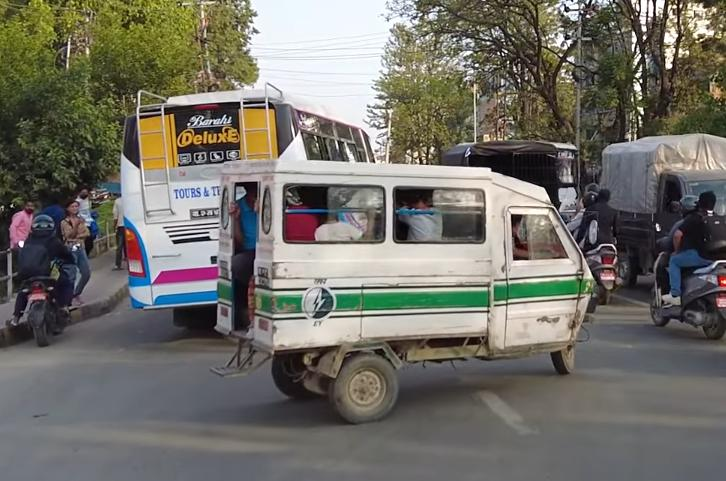bike: (14, 238, 84, 345)
scooter: (644, 221, 726, 336), (577, 235, 624, 304)
tempo: (214, 153, 606, 424)
